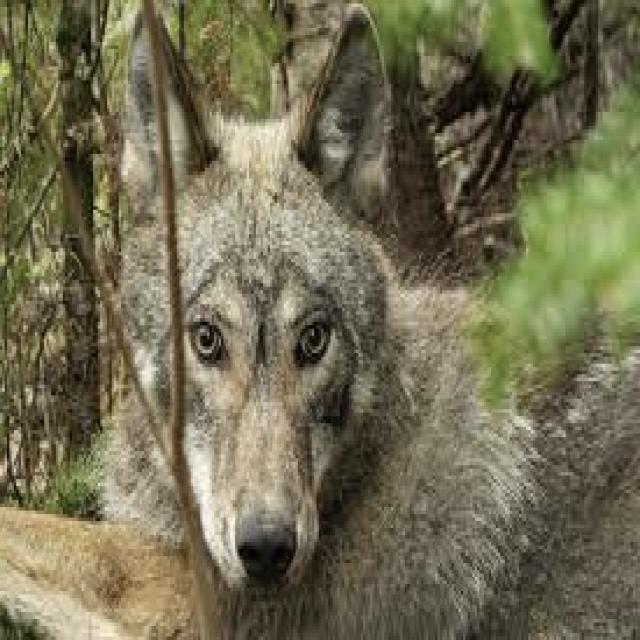wolf: (163, 3, 640, 637), (105, 17, 184, 542)
